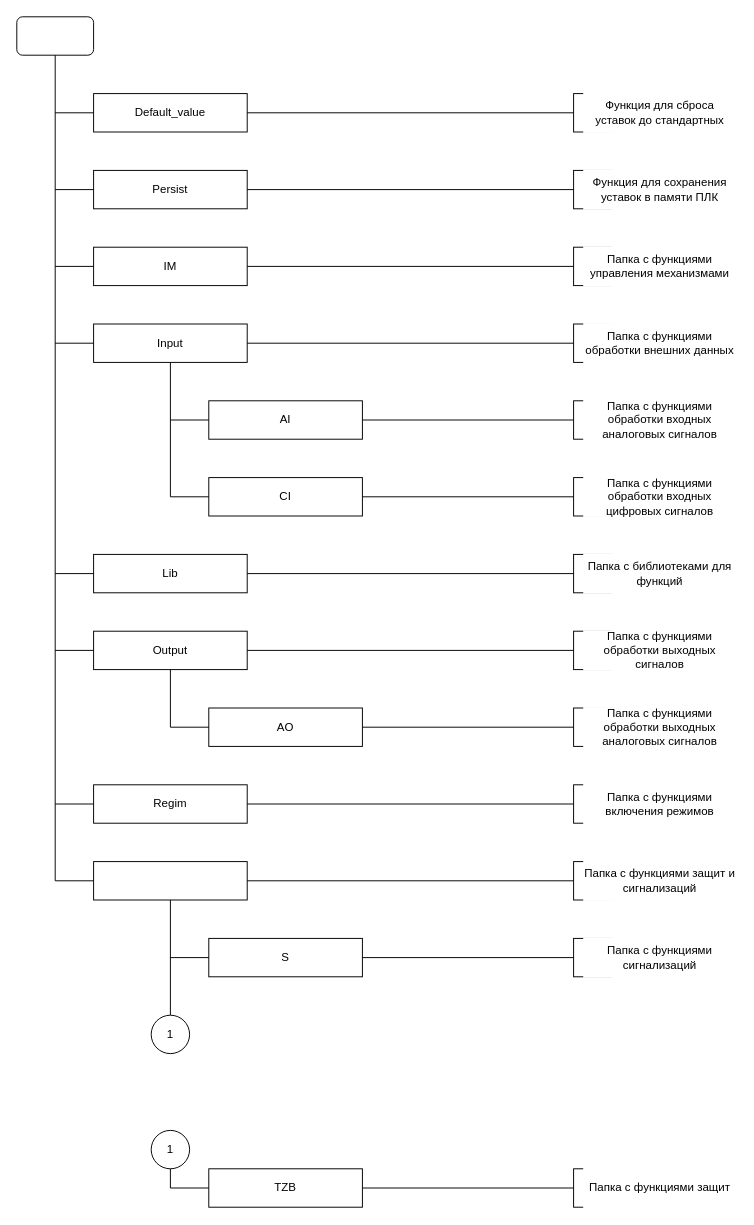
Some shapes in this 754 by 1225 pixel diagram are drawn without their labels. The shapes that lost their labels are listed below. From the top down, each one's centre as x and y in pixels, then its label:
(x=55, y=35): Main
(x=170, y=880): TZBiS
